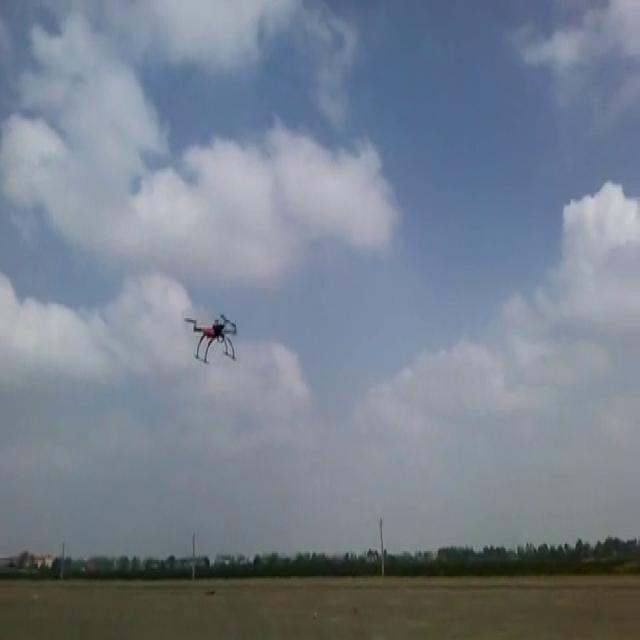drone: (181, 310, 237, 364)
